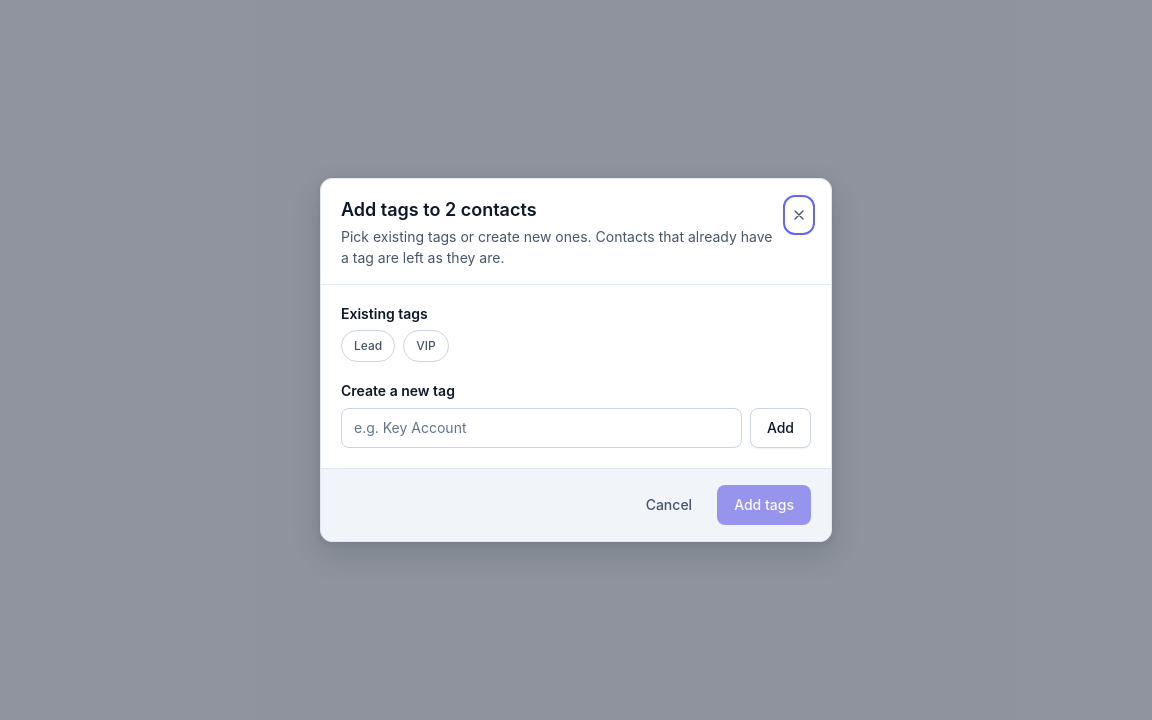
Scenario: BulkTagModal › shows the server error and stays open
What coordinates should you click on to do the following:
click the button "Lead"
I would click on:
 (368, 346)
Its box is [341,330,395,362].
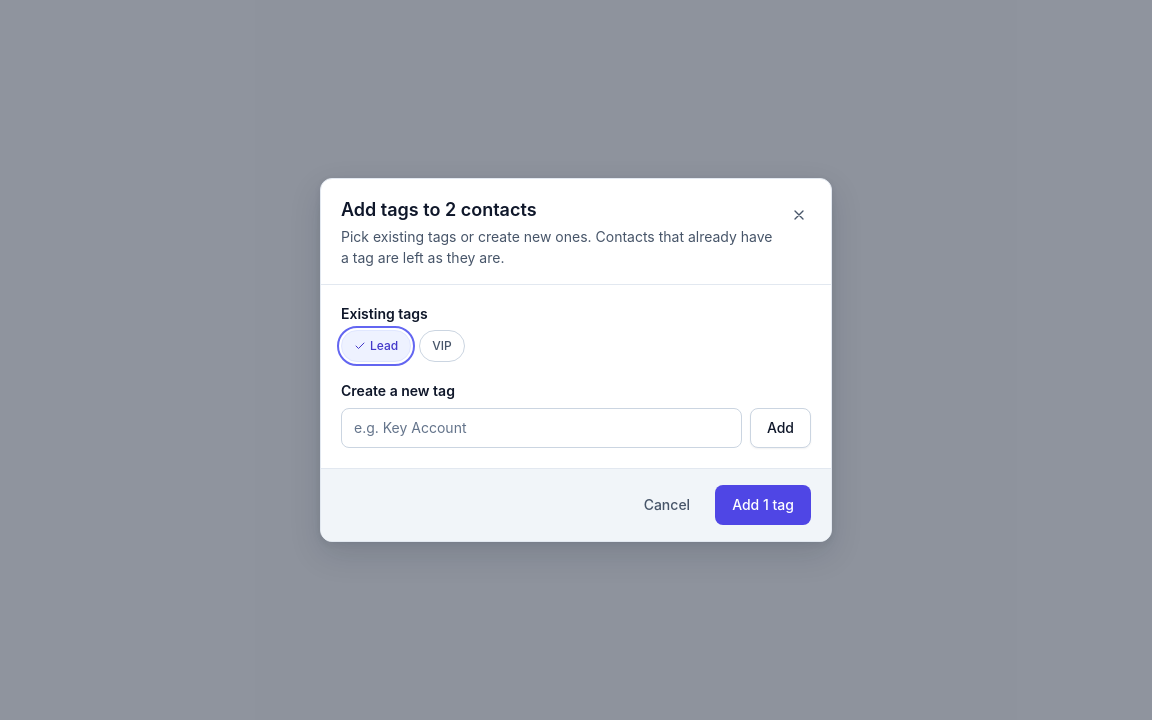
What coordinates should you click on to do the following:
click the button "Add 1 tag"
I would click on:
 (763, 505)
Its box is [715,485,811,525].
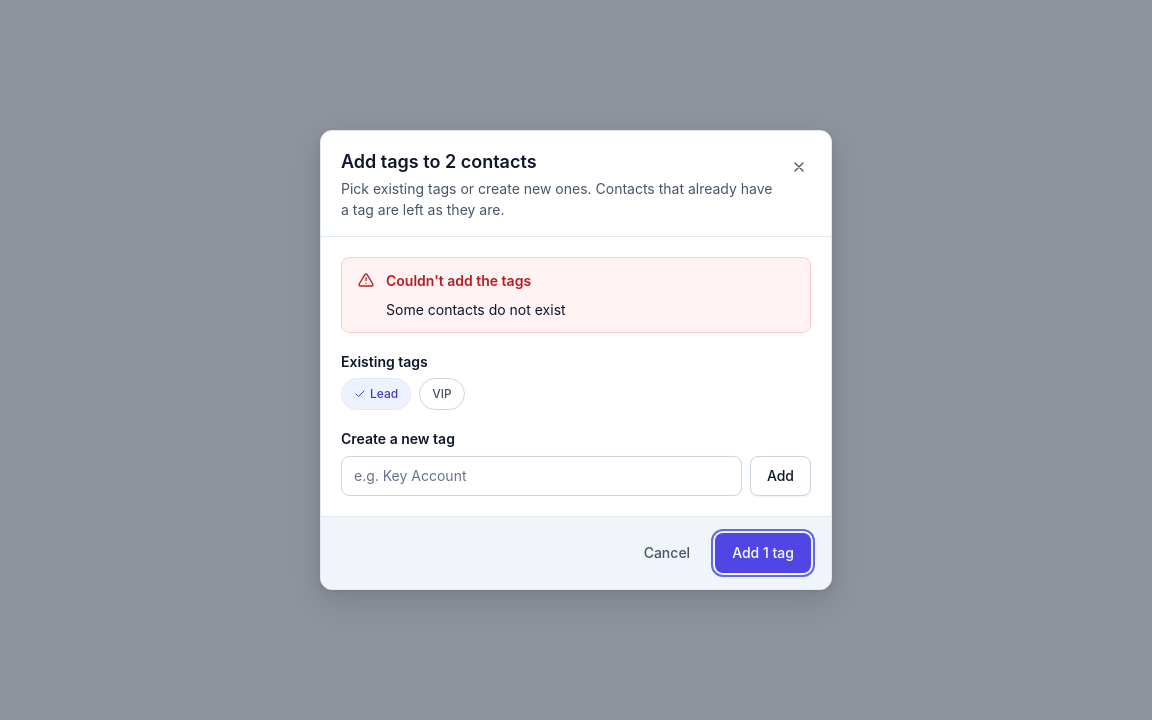
Check: the text "Some contacts do not exist" is shown, box [386,301,566,318]
